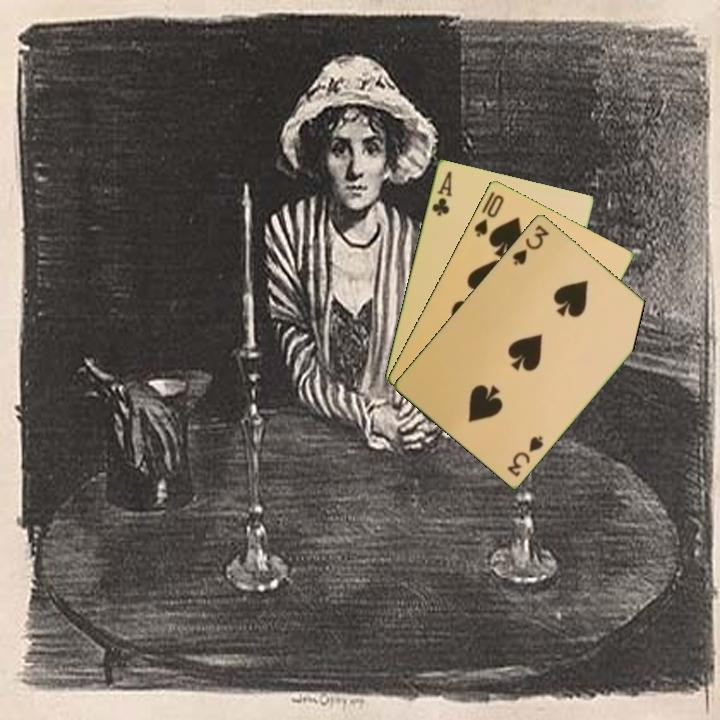10s: (470, 190, 507, 240)
3s: (509, 221, 552, 268), (503, 432, 546, 479)
Ac: (428, 167, 455, 219)
